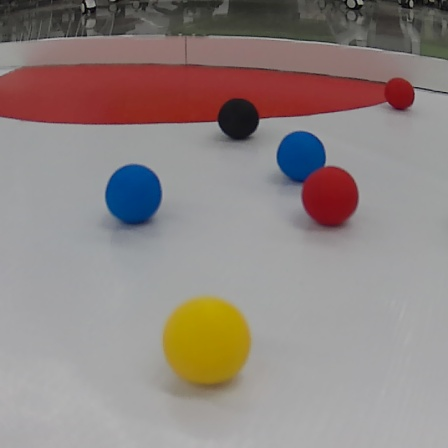black: (219, 97, 260, 139)
blue: (99, 159, 175, 219), (274, 127, 327, 180)
red: (298, 167, 363, 232), (384, 70, 419, 113)
red_base: (1, 54, 413, 126)
yellow: (160, 294, 255, 388)
